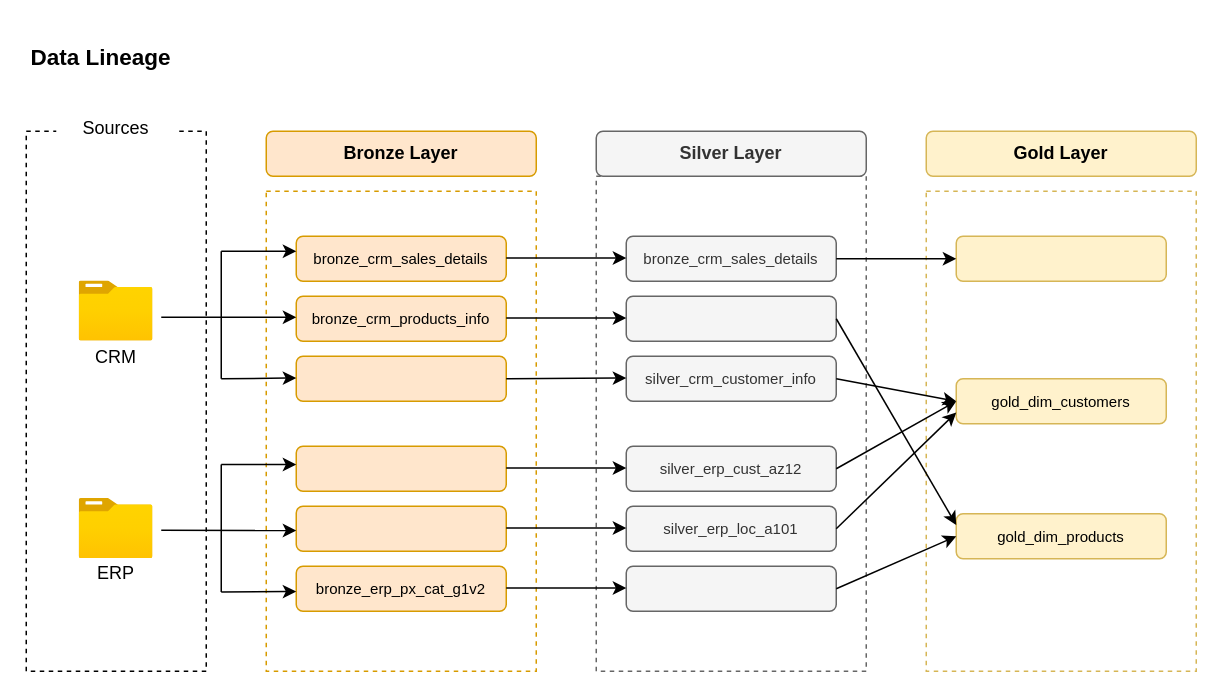
Image size: 1223x698. Some labels were removed from this diagram. The shapes that lost their labels are listed below. From the top down, each one's box as (x1, y1, x2, y2) in pixels, then its label:
(955, 235, 1166, 281): gold_fact_sales
(625, 295, 836, 341): silver_crm_product_info
(295, 355, 506, 401): bronze_crm_customer_info
(295, 445, 506, 491): bronze_erp_cust_az12
(295, 505, 506, 551): bronze_erp_loc_a101
(625, 565, 836, 611): silver_erp_px_cat_g1v2
